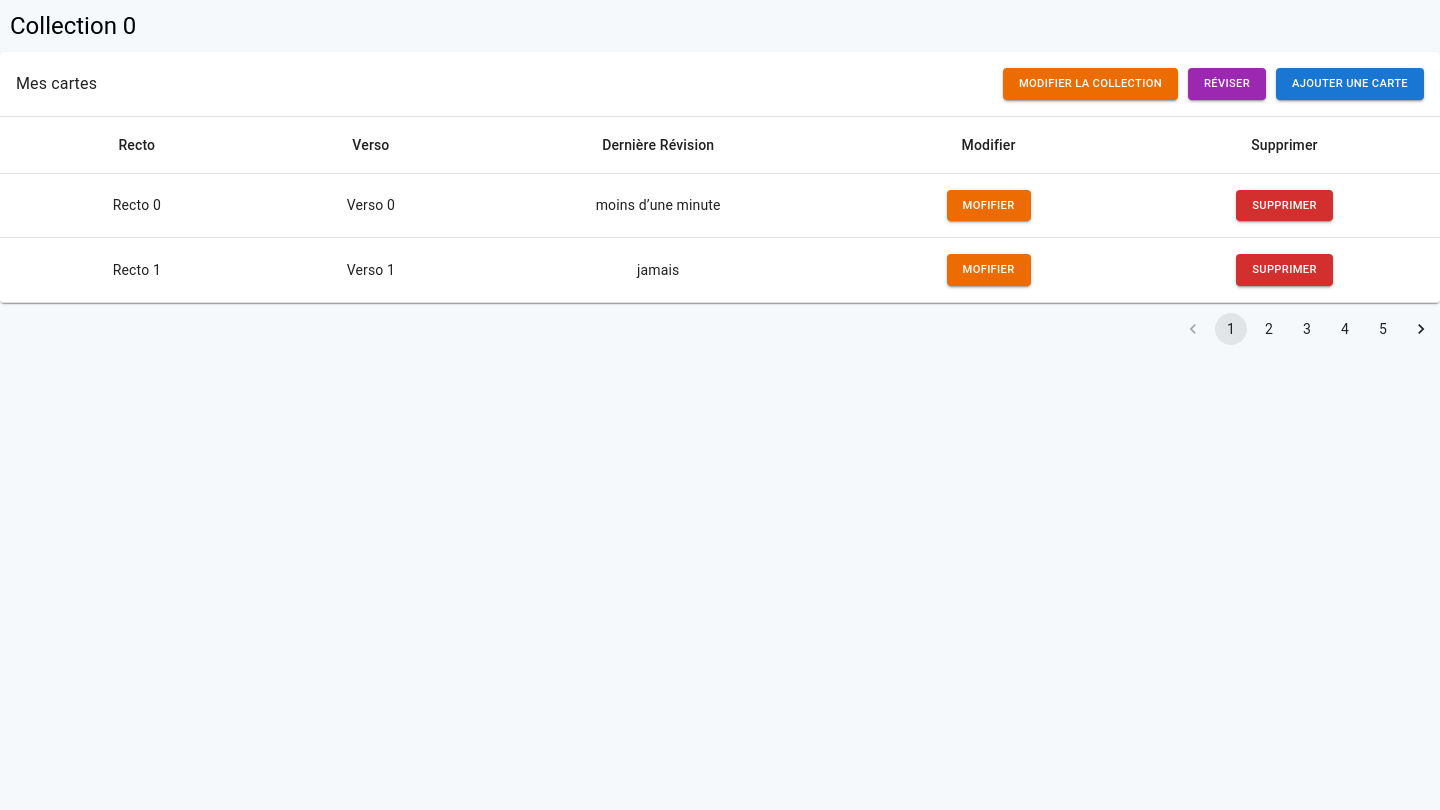
Test case: CollectionDetailContent › Tests clicking the edit button
Click the button with test id "edit-card-button-0" at (988, 205), box [946,190,1030,221]
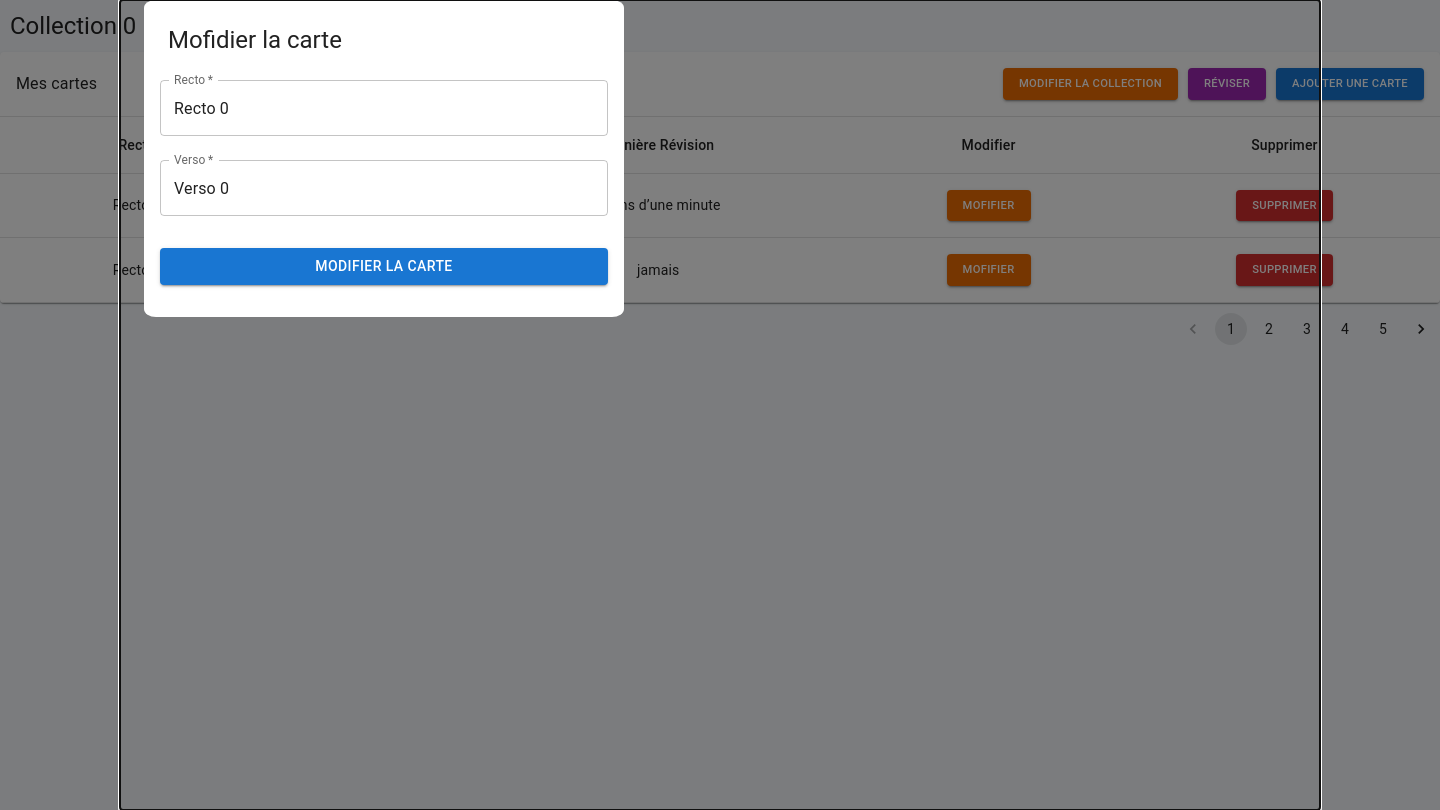
Expected: the element with test id "edit-card-modal" is shown
